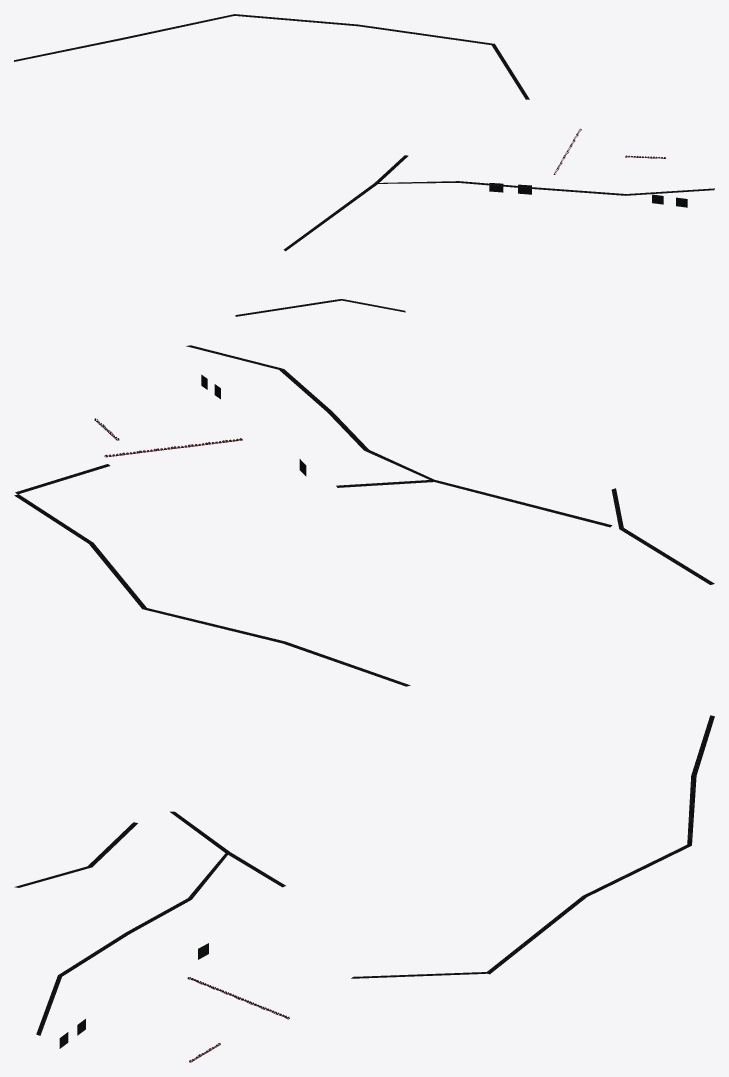
The model's file is ce_telewires02.obj.
3 views of the same model, one above another, from view 1: azimuth 30°, elevation 25°; view 2: azimuth 150°, elevation 25°; view 3: azimuth 270°, elevation 25° (orthographic). The views are drawn at different scales.
Parts seen in each view (by area): view 1: CE_telewires02; view 2: CE_telewires02; view 3: CE_telewires02.
Boxes of the visible parts, <box> form: CE_telewires02: <box>14,14,714,316</box>; CE_telewires02: <box>14,345,714,686</box>; CE_telewires02: <box>14,715,714,1062</box>.
Bounding box in the file's own units: 240 × 45.61 × 254.
